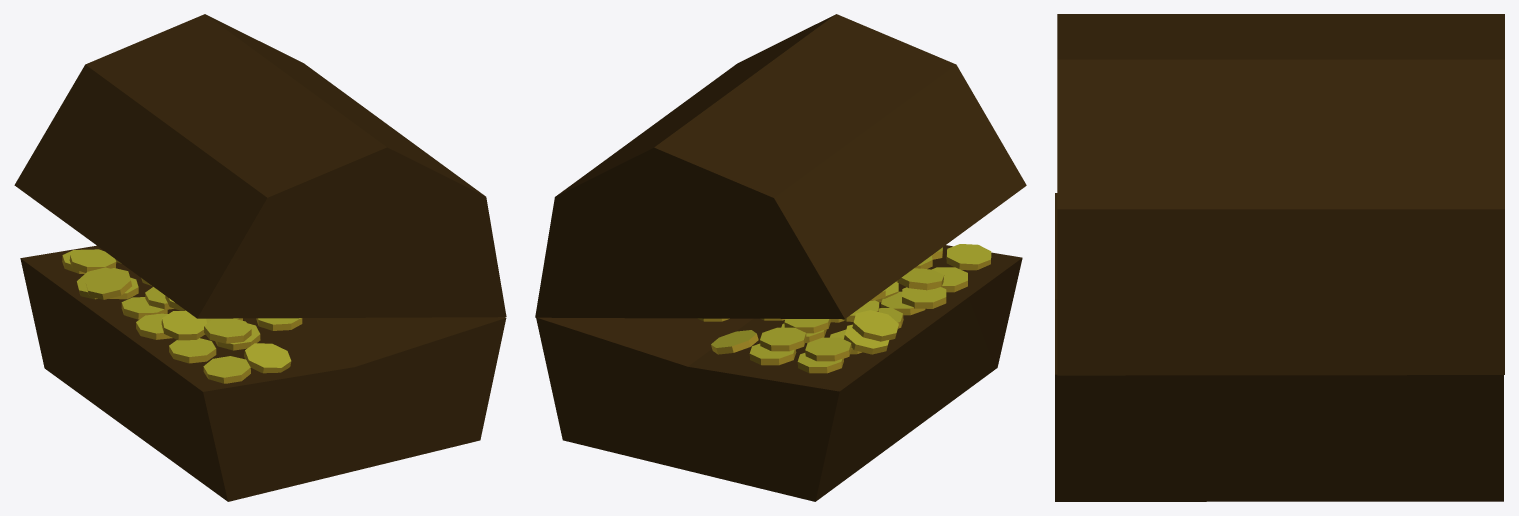
Rendered from money_money_money.fbx.
3 views of the same model, side by side, from view 1: azimuth 30°, elevation 25°; view 2: azimuth 150°, elevation 25°; view 3: azimuth 270°, elevation 25° (orthographic). The views are drawn at different scales.
Parts seen in each view (by area): view 1: Cylinder002; view 2: Cylinder002; view 3: Cylinder002.
Boxes of the visible parts, box(x1,y1,x2,y2) form: Cylinder002: box(14, 14, 506, 501); Cylinder002: box(535, 14, 1026, 501); Cylinder002: box(1055, 14, 1504, 501).
Size of the model in its own units: 14.06 by 13.65 by 14.38.
